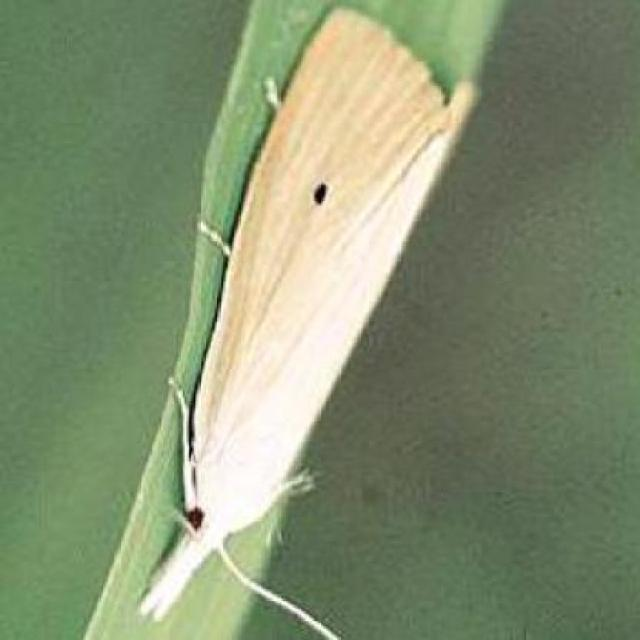stem-borer: (130, 1, 478, 640)
